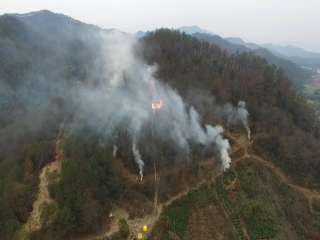smoke: (56, 25, 253, 176)
